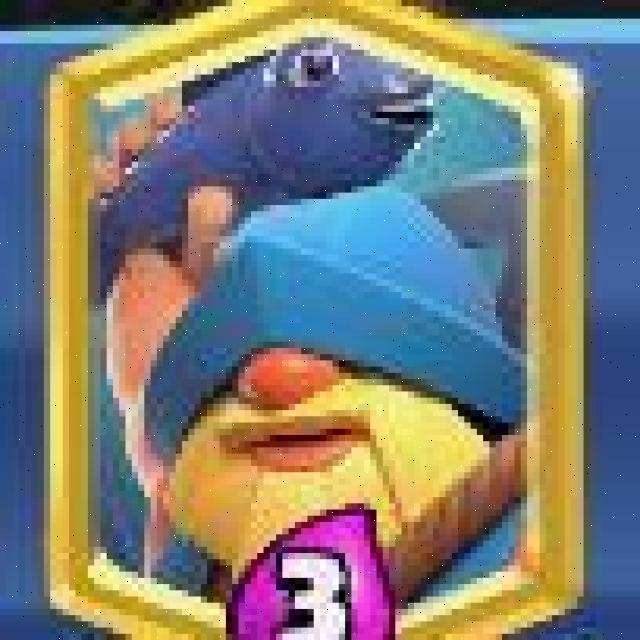Fisherman: (40, 0, 589, 640)
